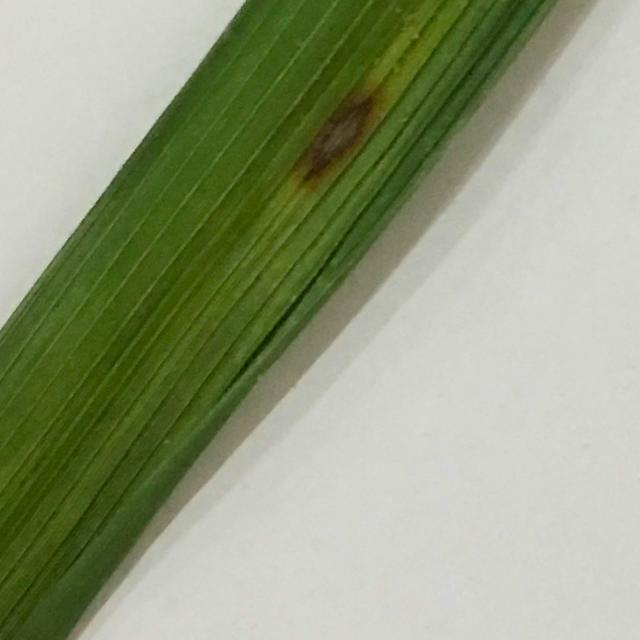Leaf blast: (282, 84, 392, 200)
